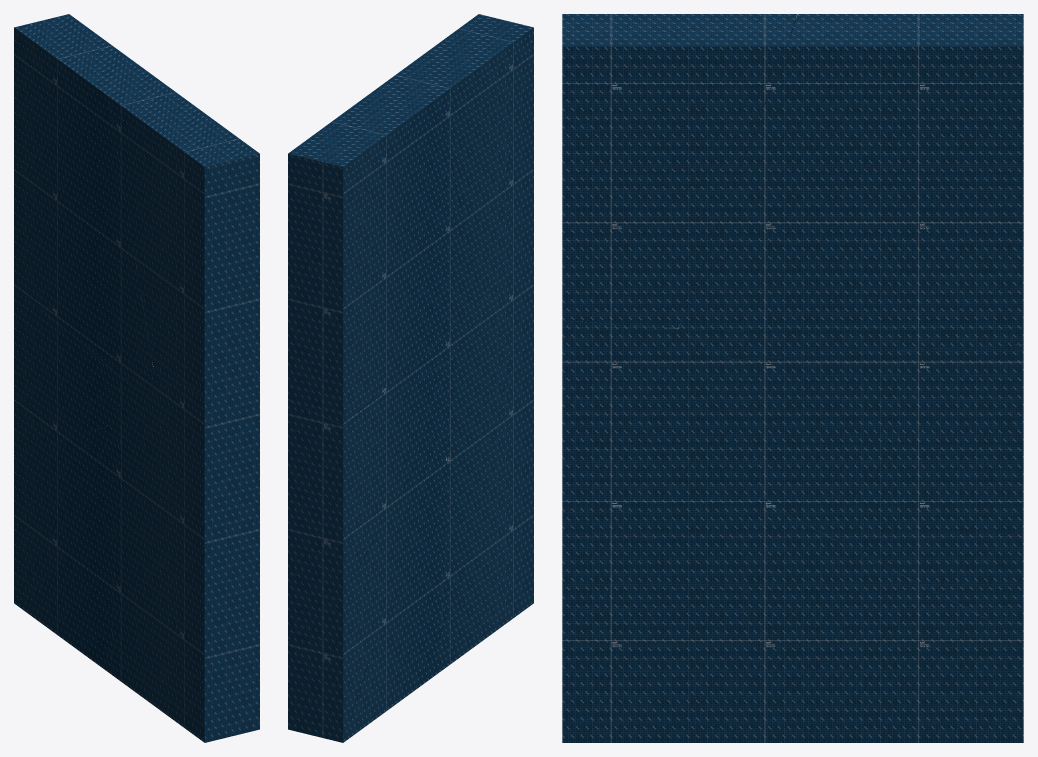
The model's file is Fractured3mWall.fbx.
3 views of the same model, side by side, from view 1: azimuth 30°, elevation 25°; view 2: azimuth 150°, elevation 25°; view 3: azimuth 270°, elevation 25° (orthographic). The views are drawn at different scales.
Visible parts, largest first — view 1: CellFract3mWall_cell, CellFract3mWall_cell.005, CellFract3mWall_cell.004, CellFract3mWall_cell.001, CellFract3mWall_cell.002; view 2: CellFract3mWall_cell.005, CellFract3mWall_cell, CellFract3mWall_cell.001, CellFract3mWall_cell.002, CellFract3mWall_cell.004; view 3: CellFract3mWall_cell.005, CellFract3mWall_cell, CellFract3mWall_cell.002, CellFract3mWall_cell.004, CellFract3mWall_cell.001.
Boxes of the visible parts, x1,y1,x2,y2 form: CellFract3mWall_cell: [111, 368, 259, 742]; CellFract3mWall_cell.005: [14, 14, 166, 378]; CellFract3mWall_cell.004: [107, 85, 259, 397]; CellFract3mWall_cell.001: [14, 423, 119, 673]; CellFract3mWall_cell.002: [14, 287, 124, 455]; CellFract3mWall_cell.005: [288, 82, 482, 425]; CellFract3mWall_cell: [439, 258, 533, 671]; CellFract3mWall_cell.001: [288, 409, 448, 742]; CellFract3mWall_cell.002: [288, 357, 453, 642]; CellFract3mWall_cell.004: [386, 14, 533, 303]; CellFract3mWall_cell.005: [678, 14, 1023, 359]; CellFract3mWall_cell: [562, 320, 781, 742]; CellFract3mWall_cell.002: [733, 344, 1023, 637]; CellFract3mWall_cell.004: [562, 14, 797, 328]; CellFract3mWall_cell.001: [766, 504, 1023, 742].
Bounding box in the file's own units: 50 × 500 × 300.
Materials: 1 (1 with a texture image).
